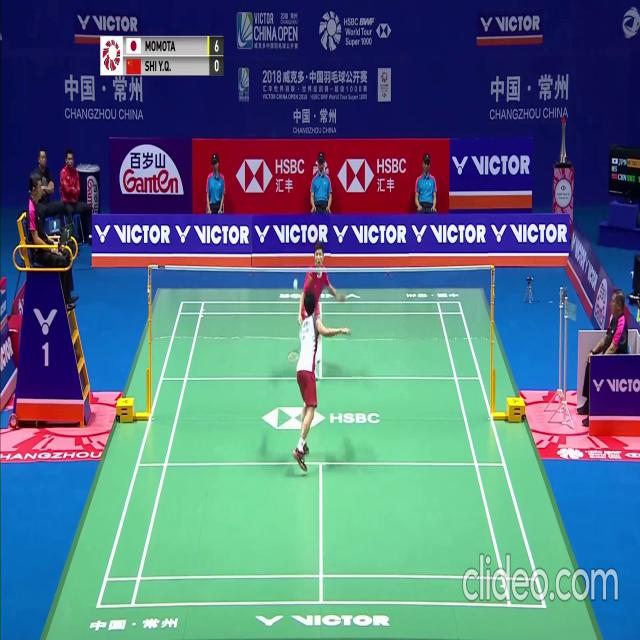Shuttlecock: (293, 280, 297, 288)
